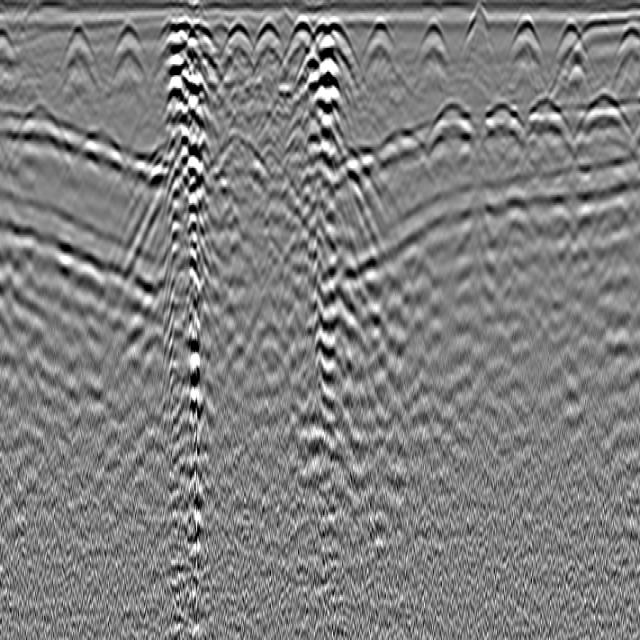hyperbola: (410, 98, 487, 162), (10, 99, 68, 160), (374, 126, 437, 175), (571, 89, 630, 140), (469, 98, 524, 151), (547, 22, 589, 80), (69, 130, 127, 171), (60, 22, 102, 74), (357, 20, 398, 72), (521, 98, 573, 138), (110, 17, 150, 67), (506, 22, 548, 68), (417, 20, 454, 63), (284, 20, 315, 70), (247, 15, 282, 57), (217, 18, 253, 57), (616, 27, 638, 65), (0, 25, 21, 58)
